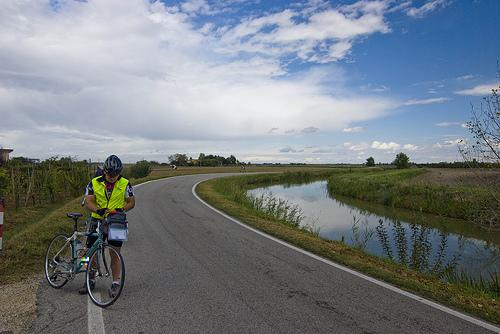bottle: (76, 239, 85, 260)
car: (43, 212, 127, 310)
person: (81, 154, 137, 301)
